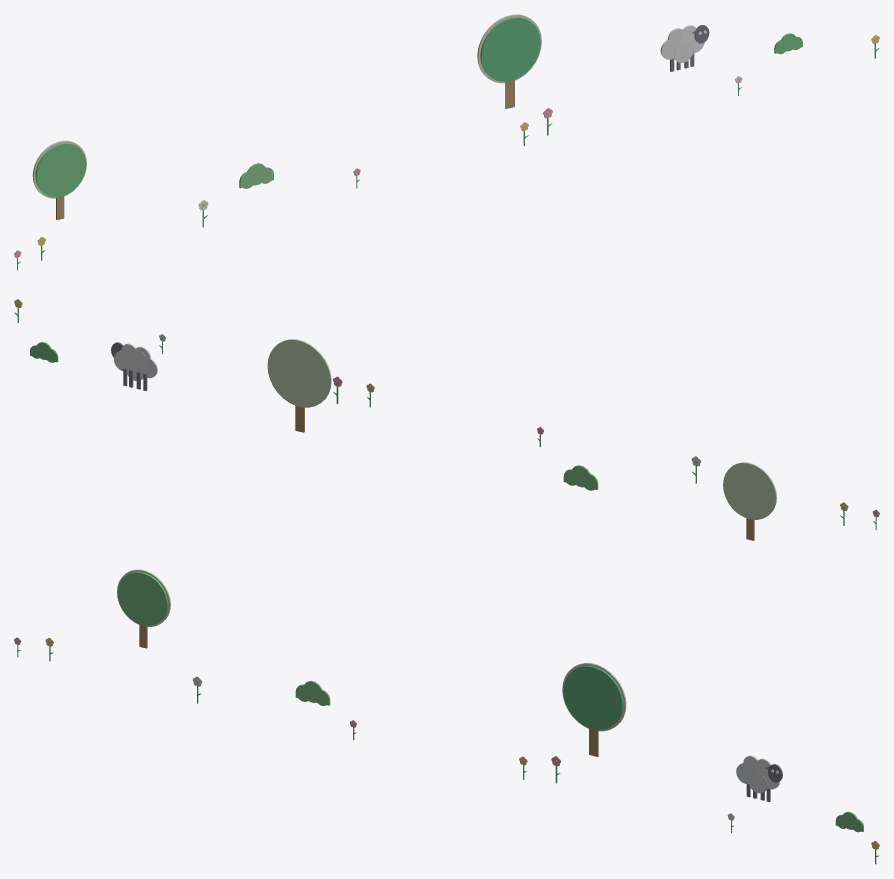
The model's file is paper-near.glb.
The picture shows the model from 3 angles, top to bottom: view 1: azimuth 30°, elevation 25°; view 2: azimuth 150°, elevation 25°; view 3: azimuth 330°, elevation 25°; orthographic projection.
Parts seen in each view (by area): view 1: paper-near; view 2: paper-near; view 3: paper-near.
Part boxes in pixels (x1,y1,x2,y2): paper-near: (14,14,879,270); paper-near: (14,299,879,540); paper-near: (14,569,879,864).
Bounding box in the file's own units: 61.54 × 6.36 × 5.82.
